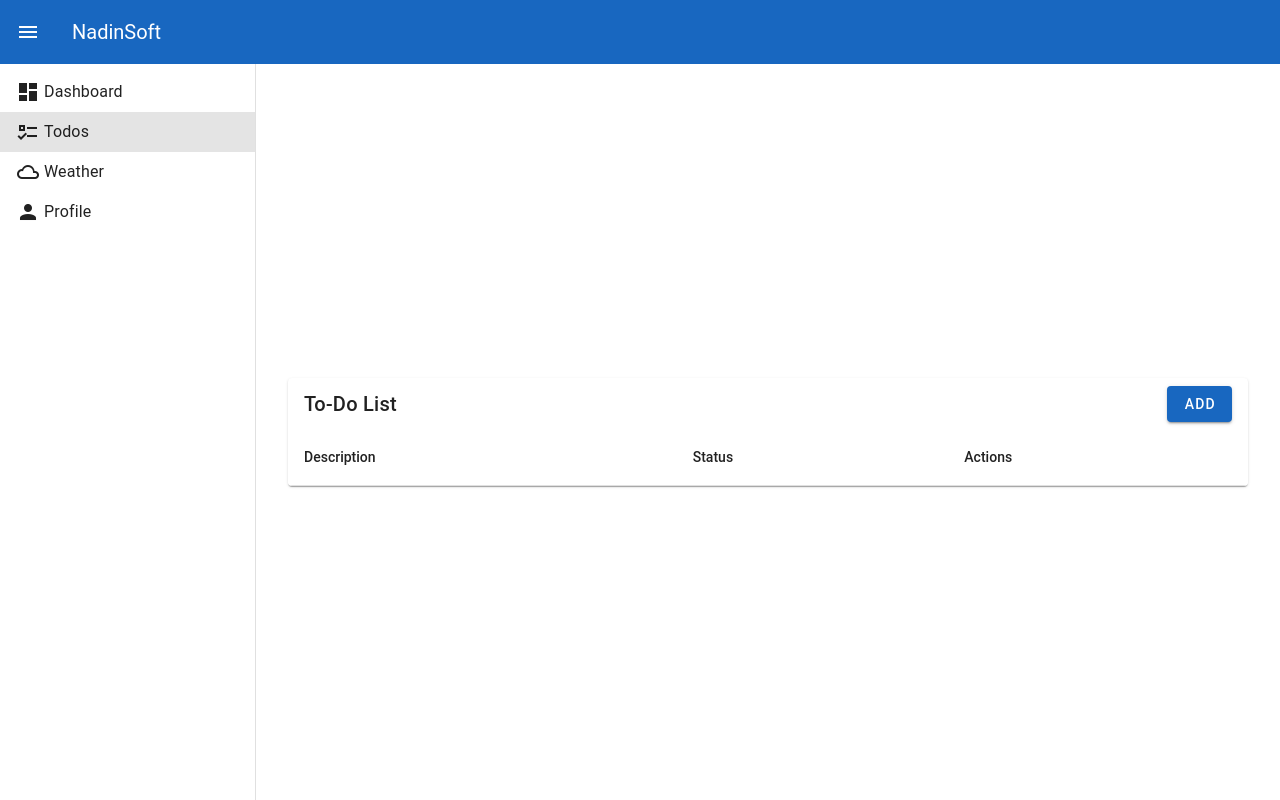
To-Do List Page › should add a new task
The width and height of the screenshot is (1280, 800).
Click the button "Add" at (1200, 404), box [1167,386,1232,422]
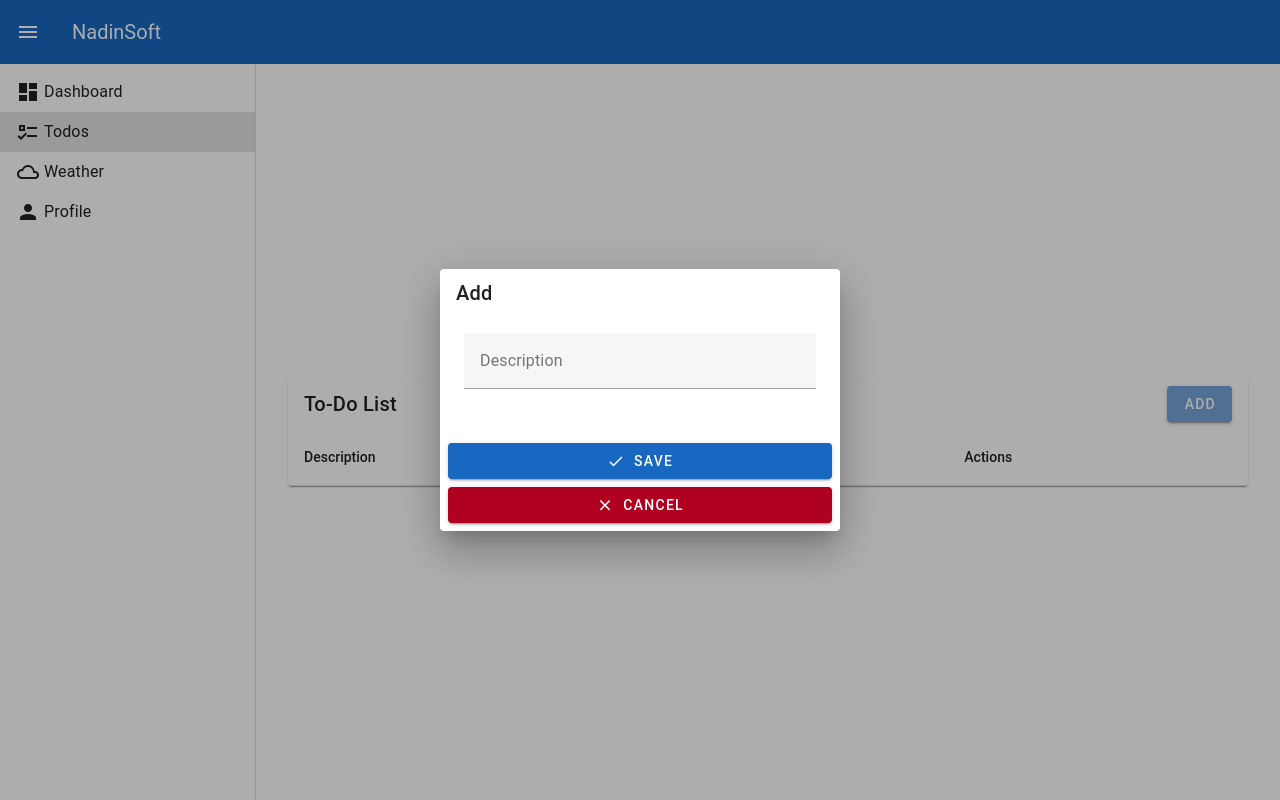
Type "Buy milk" into the field labelled "Description" at (640, 361), box [464,333,816,389]
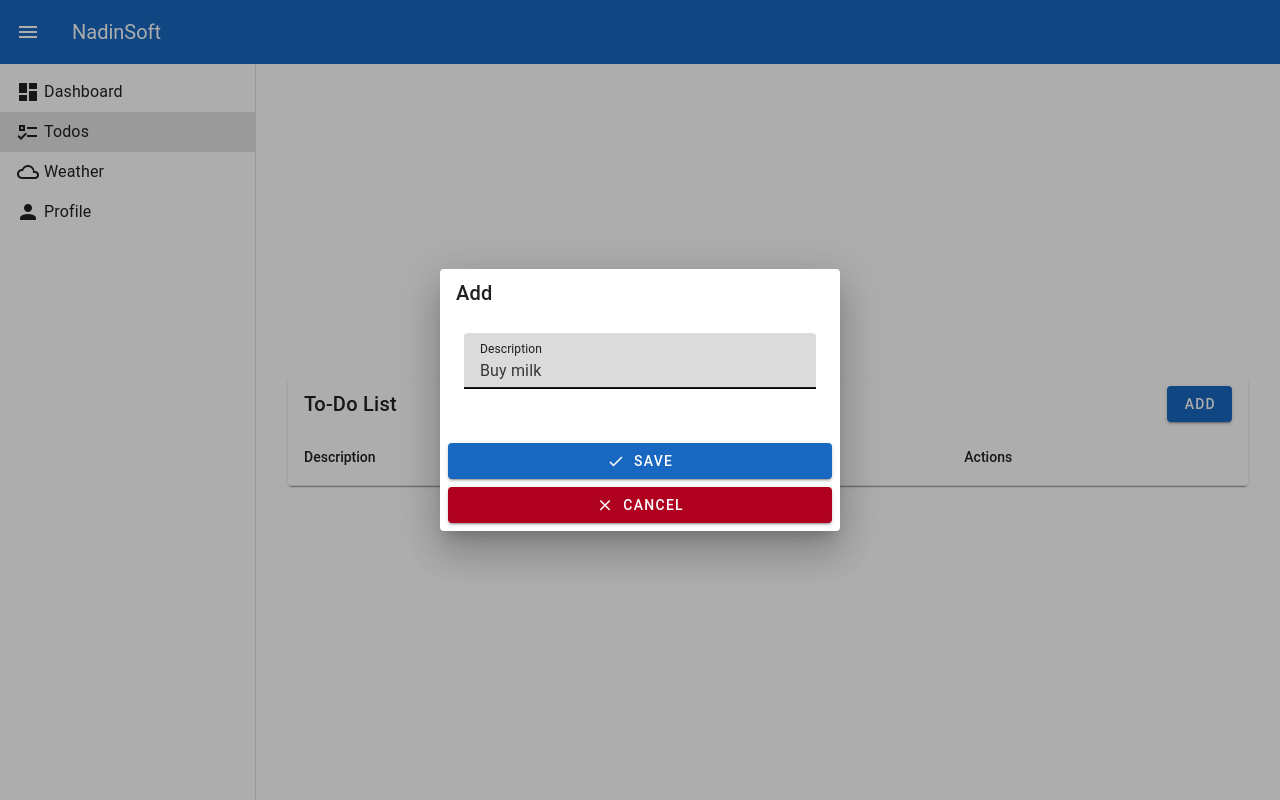
Click the button "Save" at (640, 461), box [448,443,832,479]
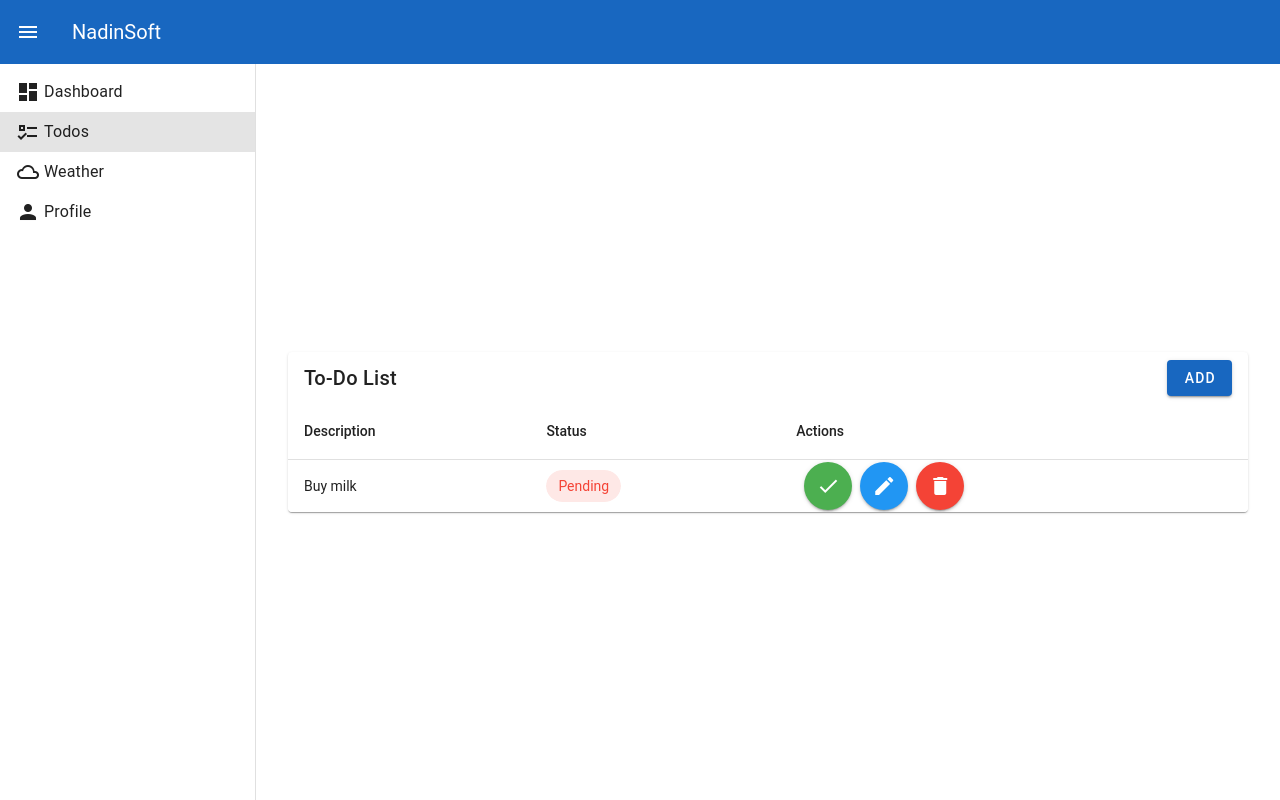
Now the text "Buy milk" is shown, box [288,460,530,512]
